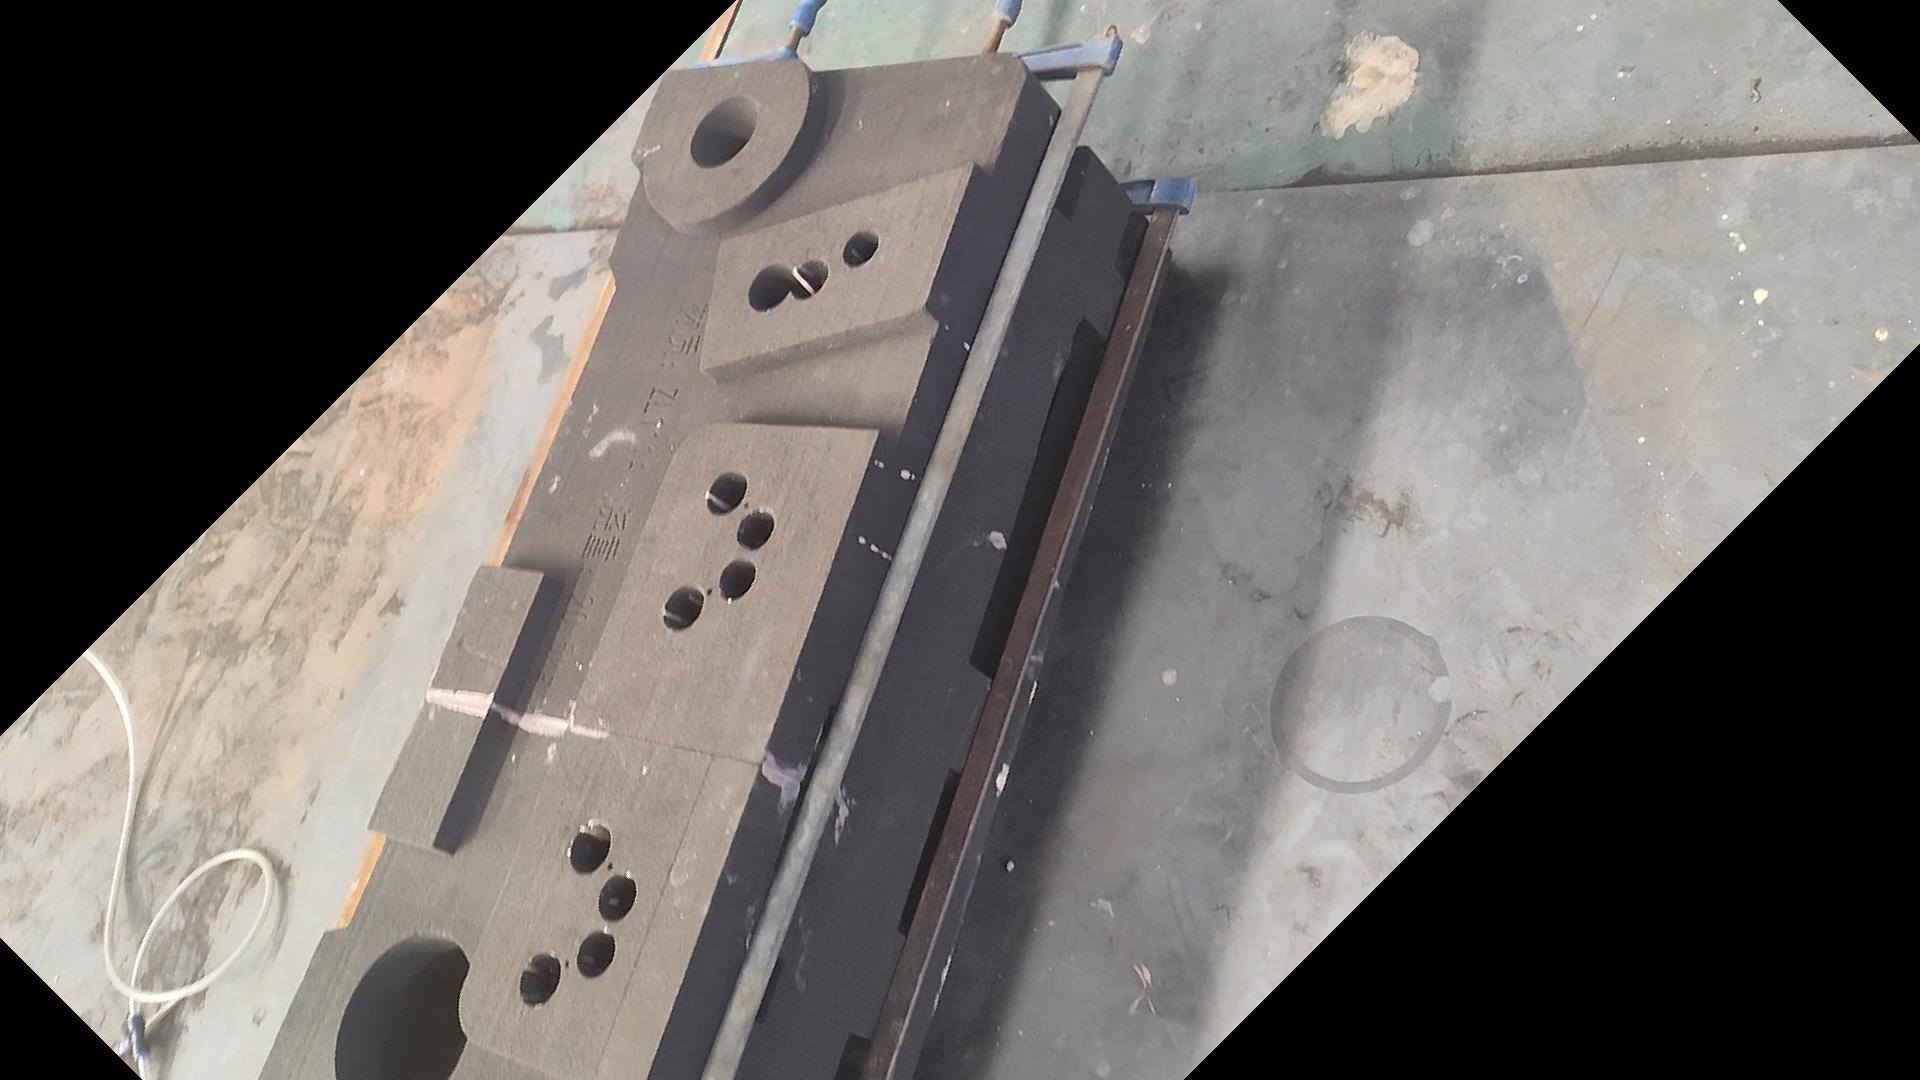pouring hole: (690, 95, 758, 169)
